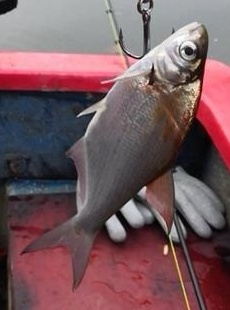Blicca bjoerkna: (20, 20, 210, 290)
